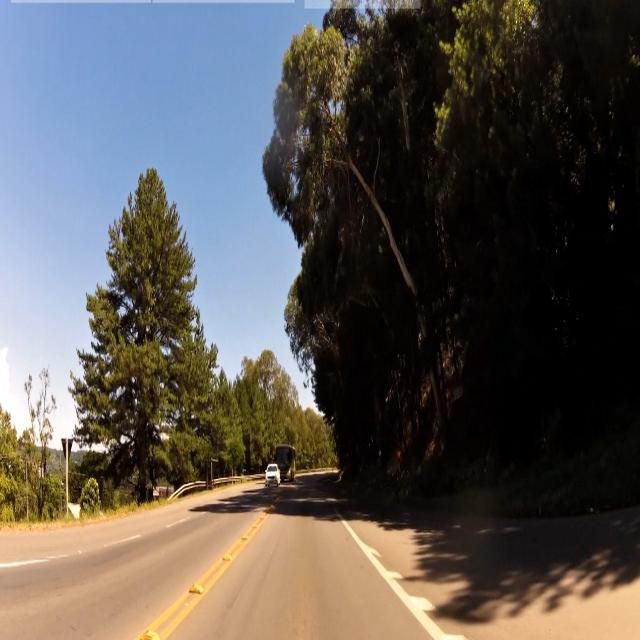R-2: (394, 447, 405, 462)
